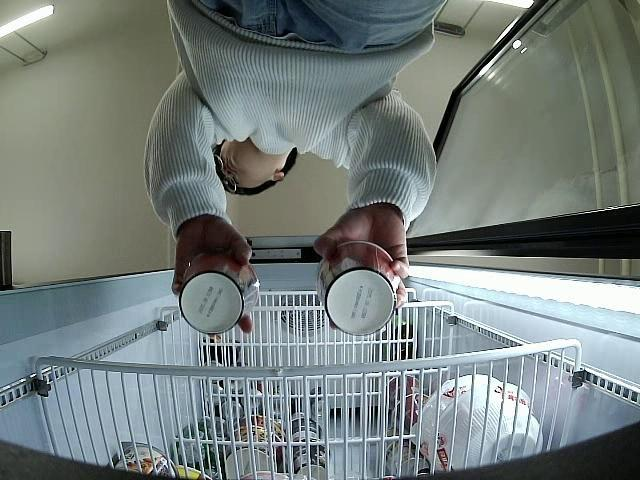02_shinRamen_S: (316, 241, 399, 335), (180, 256, 258, 334)
